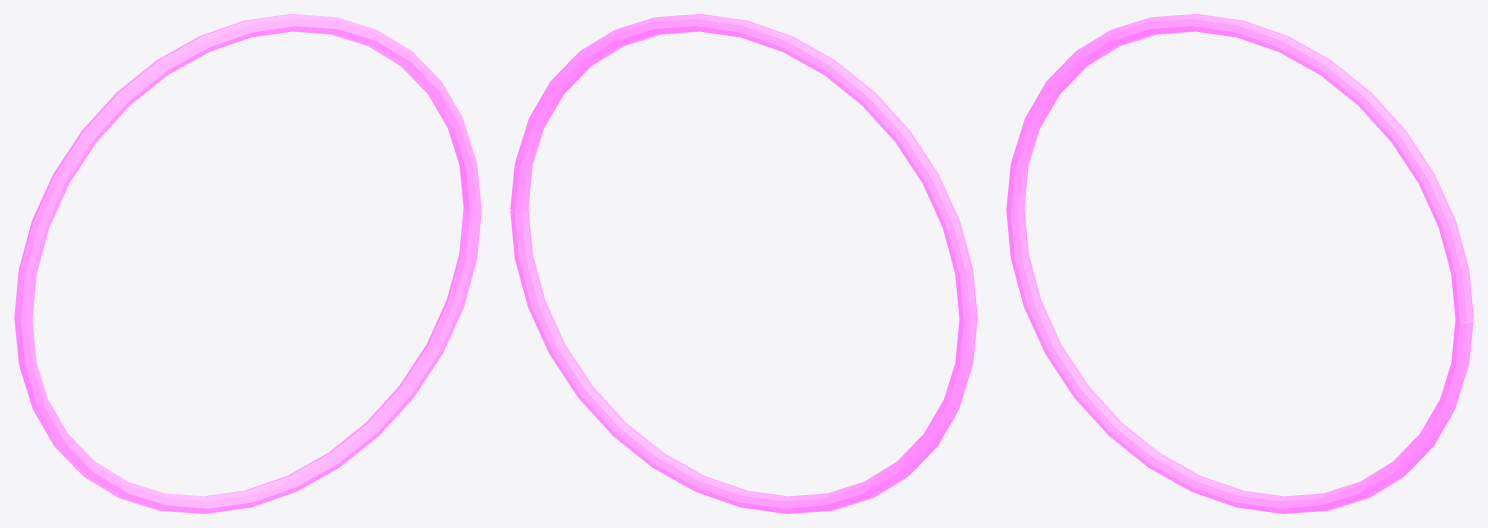
Rendered from arcade_neon_ring.glb.
3 views of the same model, side by side, from view 1: azimuth 30°, elevation 25°; view 2: azimuth 150°, elevation 25°; view 3: azimuth 330°, elevation 25° (orthographic).
Parts seen in each view (by area): view 1: Ring; view 2: Ring; view 3: Ring.
Part boxes in pixels (<box>): Ring: <box>14,14,481,513</box>; Ring: <box>510,14,977,513</box>; Ring: <box>1006,14,1473,513</box>.
Size of the model in its own units: 1.14 by 1.14 by 0.04.
